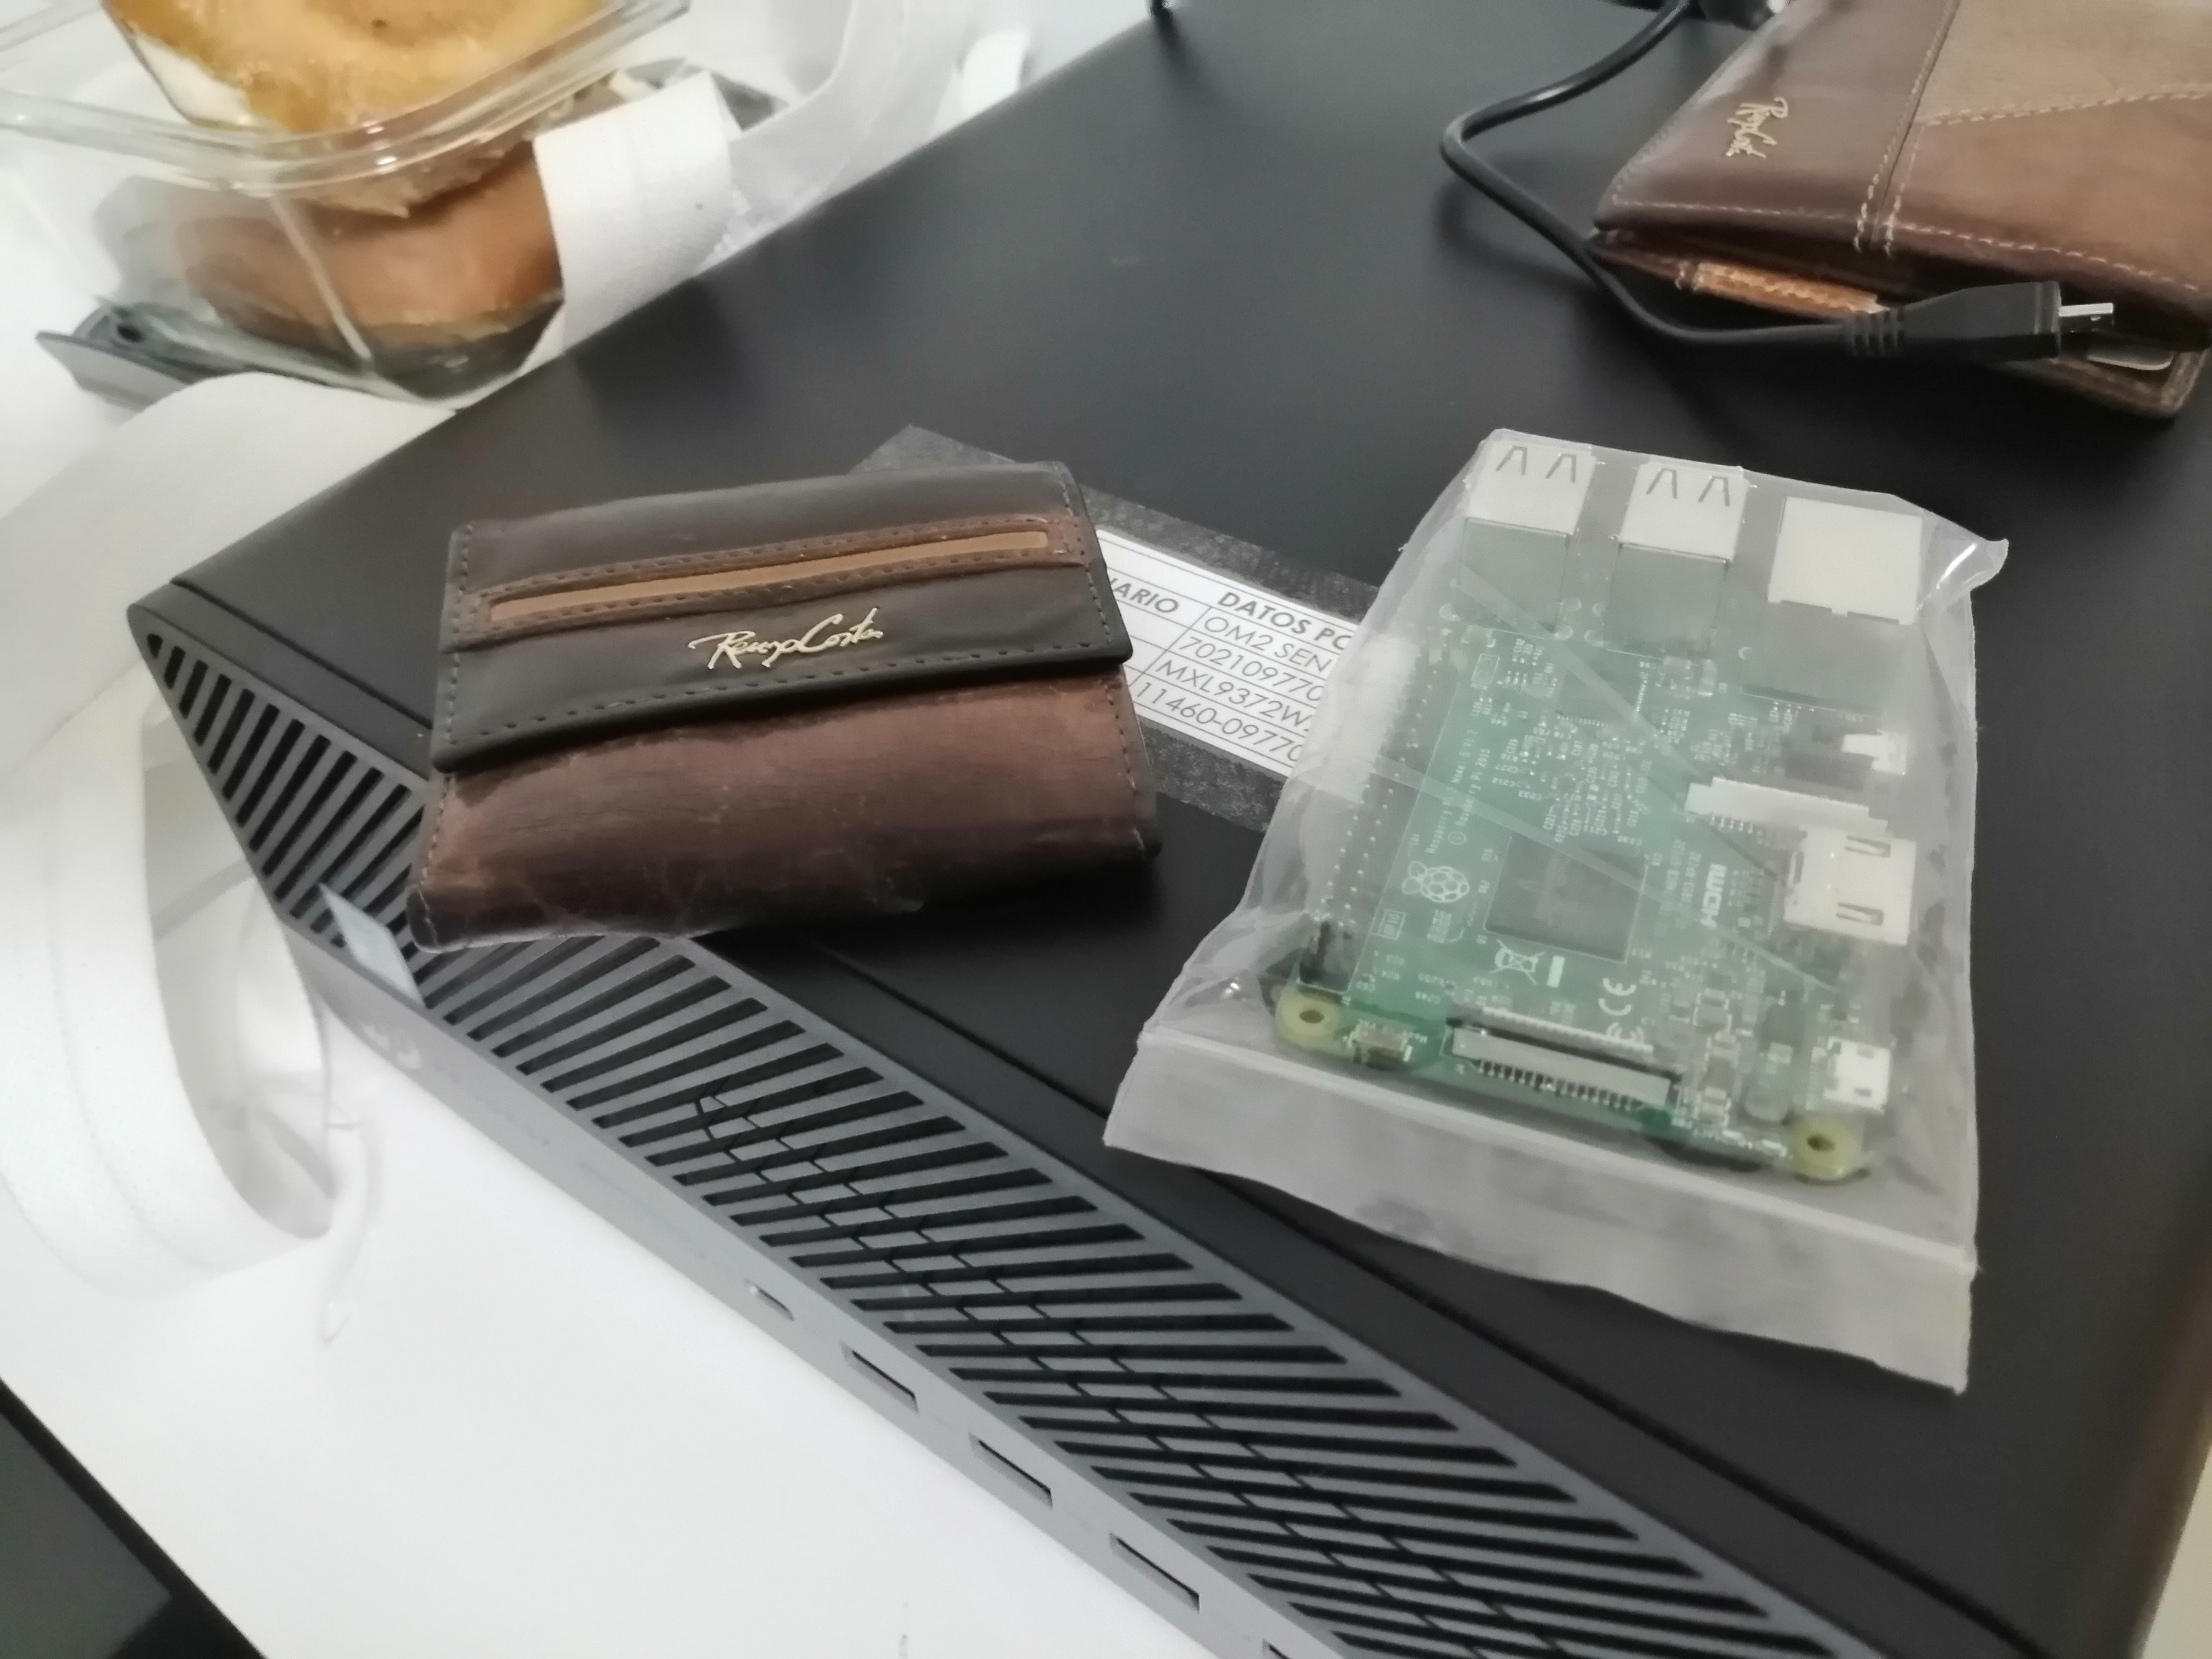monedero: (385, 448, 1191, 965)
